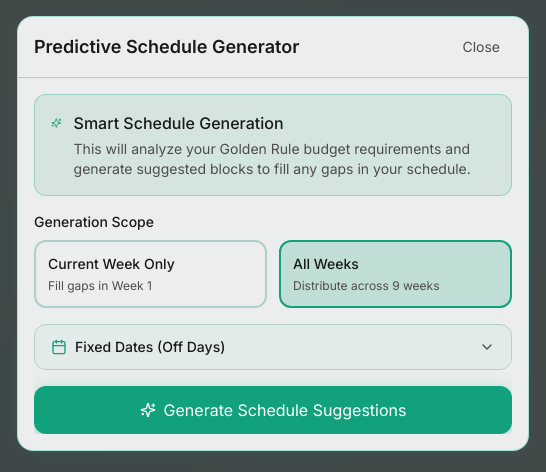
Test: ScheduleSuggestionPanel › renders and generates suggestions showing confidence badge
Note: click the generate button
What coordinates should you click on to do the following:
click the button with test id "generate-suggestions"
I would click on:
 (273, 410)
Its box is [34,386,512,434].
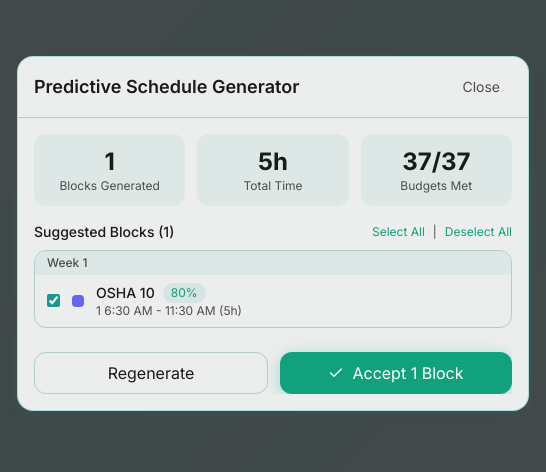
Result: the text "OSHA 10" is shown at [96,282,155,302]
Result: the text "80%" is shown at [163,282,206,302]
